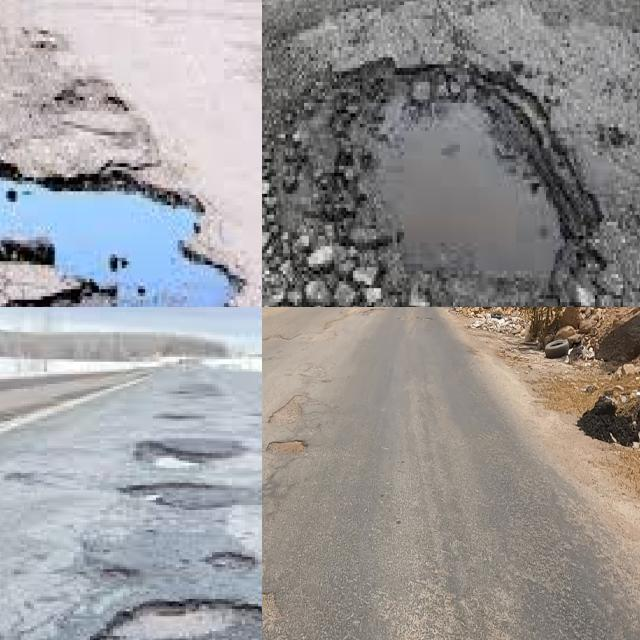Pothole: (0, 166, 243, 307), (381, 99, 562, 288), (92, 599, 262, 640), (269, 394, 308, 425), (267, 441, 304, 454), (363, 309, 384, 317)
